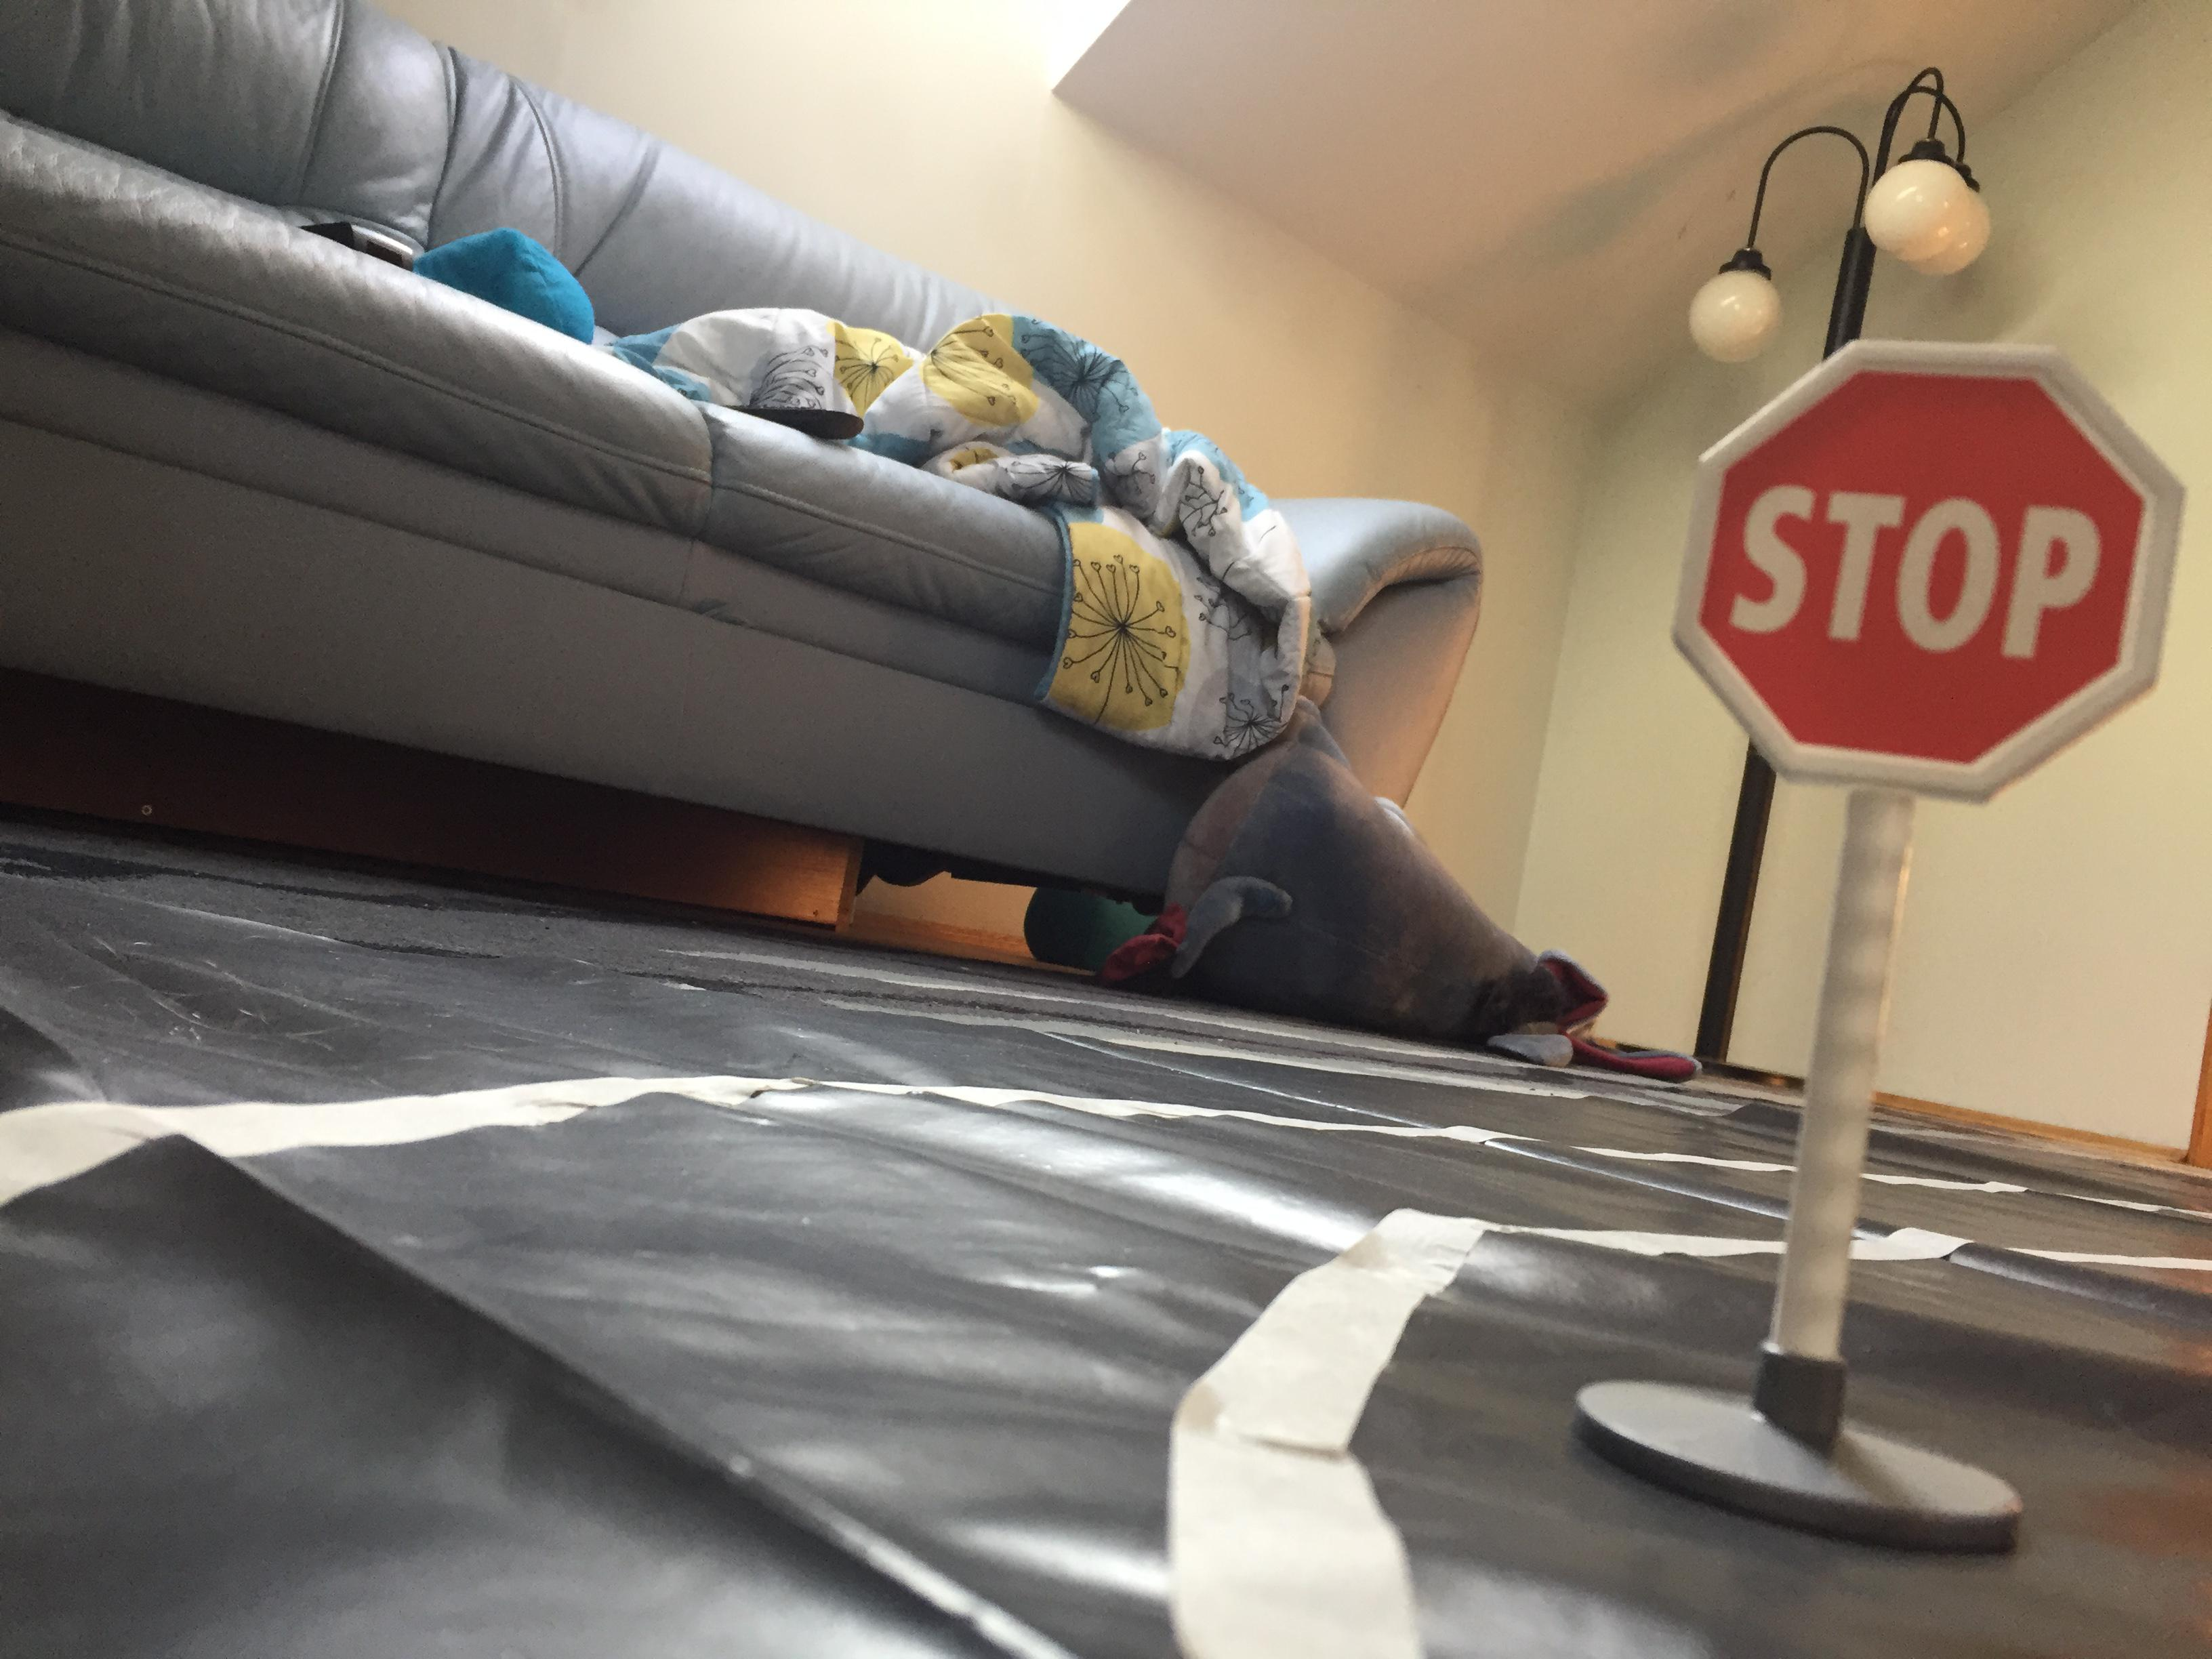stop: (1660, 315, 2193, 819)
